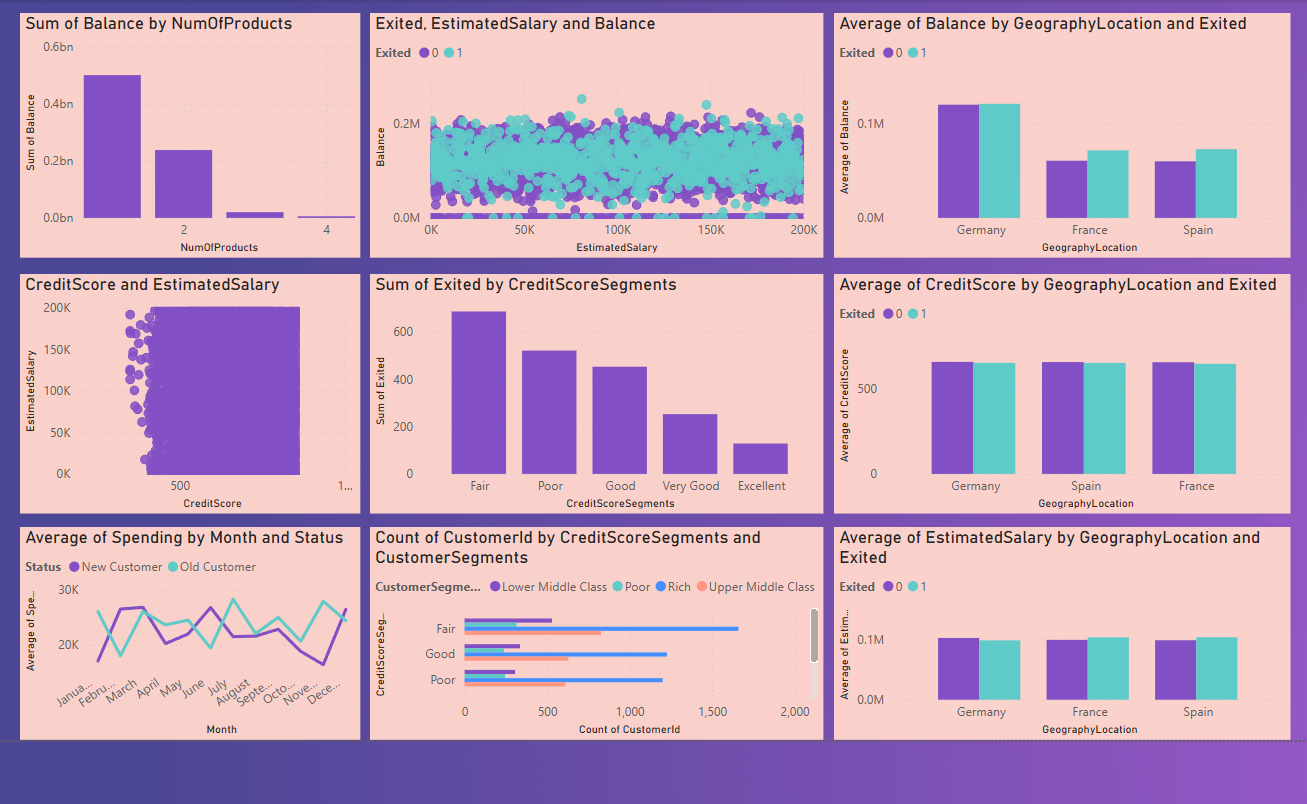

The page's visual inventory and layout, read from the dashboard file:
{"tool":"powerbi","page":{"name":"Dashboard 3","canvas":[1280,720],"ordinal":2},"visuals":[{"type":"columnChart","fields":{"Category":["Bank_Churn.NumOfProducts"],"Y":["Sum(Bank_Churn.Balance)"]},"box":[21.4,12.6,330.7,238.3],"z":0},{"type":"scatterChart","fields":{"X":["CustomerInfo.EstimatedSalary"],"Series":["Bank_Churn.Exited"],"Y":["Bank_Churn.Balance"]},"box":[361.8,12.6,440.6,238.3],"z":1000},{"type":"clusteredColumnChart","fields":{"Y":["Avg(Bank_Churn.Balance)"],"Series":["Bank_Churn.Exited"],"Category":["Geography.GeographyLocation"]},"box":[813.1,12.6,443.5,238.3],"z":2000},{"type":"scatterChart","fields":{"X":["Bank_Churn.CreditScore"],"Y":["CustomerInfo.EstimatedSalary"]},"box":[21.4,266.5,330.7,233.4],"z":3000},{"type":"clusteredColumnChart","fields":{"Y":["Sum(Bank_Churn.Exited)"],"Category":["Bank_Churn.CreditScoreSegments"]},"box":[361.8,266.5,440.6,233.4],"z":4000},{"type":"clusteredColumnChart","fields":{"Series":["Bank_Churn.Exited"],"Y":["Avg(Bank_Churn.CreditScore)"],"Category":["Geography.GeographyLocation"]},"box":[813.1,266.5,443.5,233.4],"z":5000},{"type":"lineChart","fields":{"Category":["CustomerInfo.Bank DOJ.Variation.Date Hierarchy.Month"],"Y":["Avg(CustomerInfo.Spending)"],"Series":["CustomerInfo.Status"]},"box":[21.4,512.6,330.7,207.2],"z":6000},{"type":"clusteredBarChart","fields":{"Category":["Bank_Churn.CreditScoreSegments"],"Y":["CountNonNull(Bank_Churn.CustomerId)"],"Series":["CustomerInfo.CustomerSegments"]},"box":[362,513,441,207],"z":7000},{"type":"clusteredColumnChart","fields":{"Series":["Bank_Churn.Exited"],"Y":["Avg(CustomerInfo.EstimatedSalary)"],"Category":["Geography.GeographyLocation"]},"box":[813,513,444,207],"z":8000}]}

Visuals, with their boxes in screenshot pixels (x1, y1, x2, y2):
columnChart - Bank_Churn.NumOfProducts x Sum(Bank_Churn.Balance): [x1=12, y1=6, x2=357, y2=255]
scatterChart - CustomerInfo.EstimatedSalary x Bank_Churn.Exited: [x1=368, y1=6, x2=827, y2=255]
clusteredColumnChart - Avg(Bank_Churn.Balance) x Bank_Churn.Exited: [x1=839, y1=6, x2=1302, y2=255]
scatterChart - Bank_Churn.CreditScore x CustomerInfo.EstimatedSalary: [x1=12, y1=271, x2=357, y2=515]
clusteredColumnChart - Sum(Bank_Churn.Exited) x Bank_Churn.CreditScoreSegments: [x1=368, y1=271, x2=827, y2=515]
clusteredColumnChart - Bank_Churn.Exited x Avg(Bank_Churn.CreditScore): [x1=839, y1=271, x2=1302, y2=515]
lineChart - CustomerInfo.Bank DOJ.Variation.Date Hierarchy.Month x Avg(CustomerInfo.Spending): [x1=12, y1=528, x2=357, y2=745]
clusteredBarChart - Bank_Churn.CreditScoreSegments x CountNonNull(Bank_Churn.CustomerId): [x1=368, y1=529, x2=828, y2=745]
clusteredColumnChart - Bank_Churn.Exited x Avg(CustomerInfo.EstimatedSalary): [x1=839, y1=529, x2=1302, y2=745]
